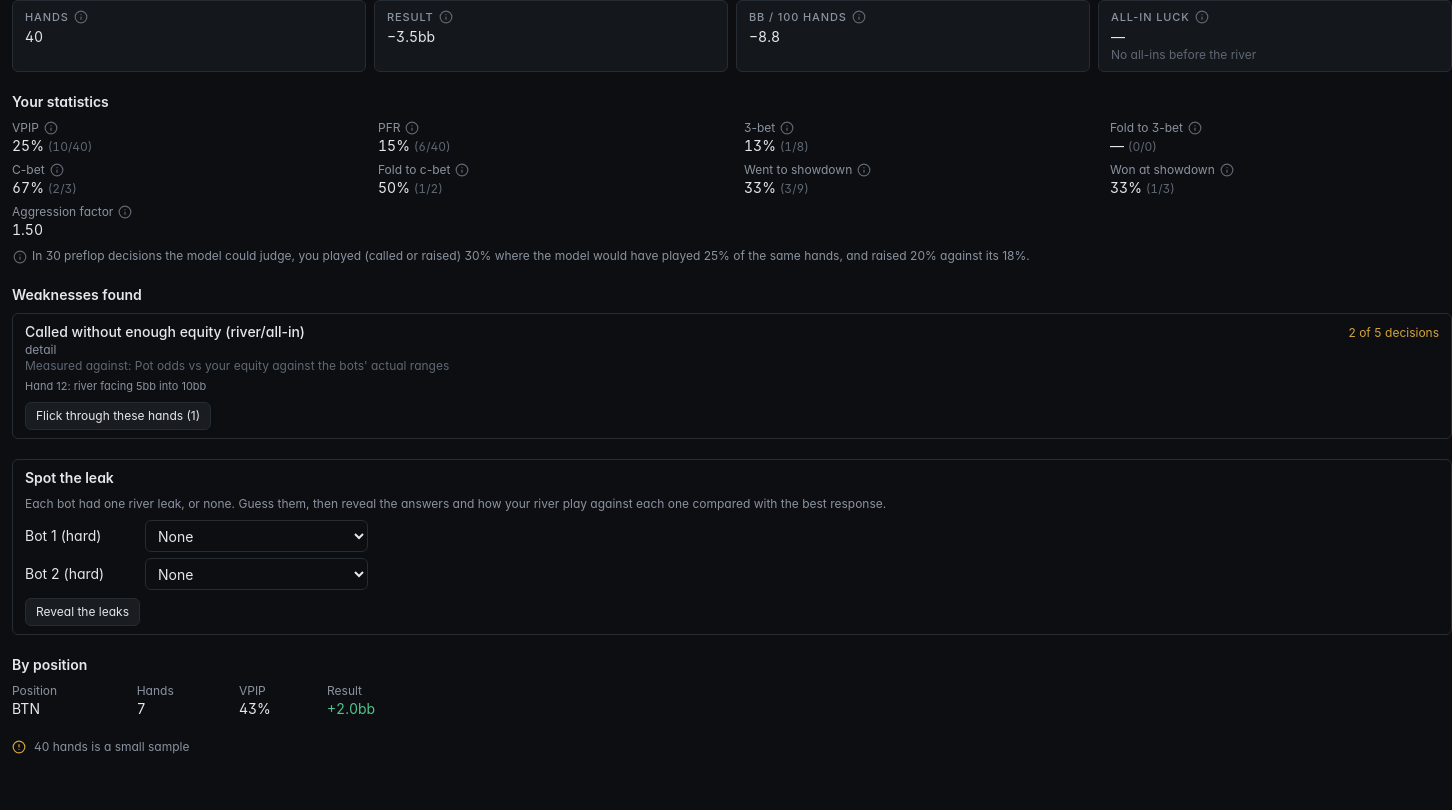
Scenario: session report › asks you to spot hidden leaks before revealing them
The image size is (1452, 810).
Select "Never bluffs the river" in the dropdown named "Leak of Bot 1 (hard)" at (256, 536), box [145, 520, 368, 552]
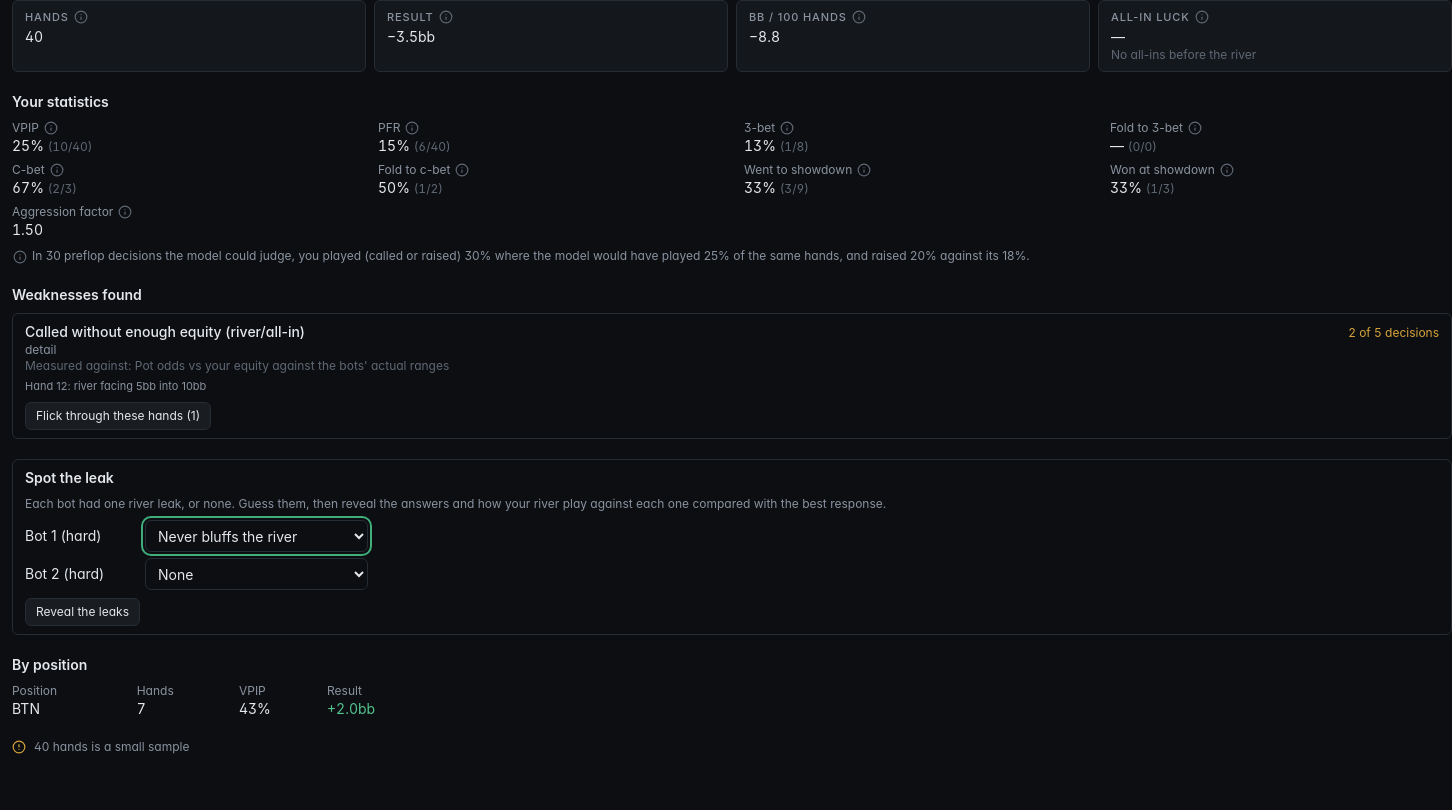
Select "Folds too much to river bets" in the dropdown named "Leak of Bot 2 (hard)" at (256, 574), box [145, 558, 368, 590]
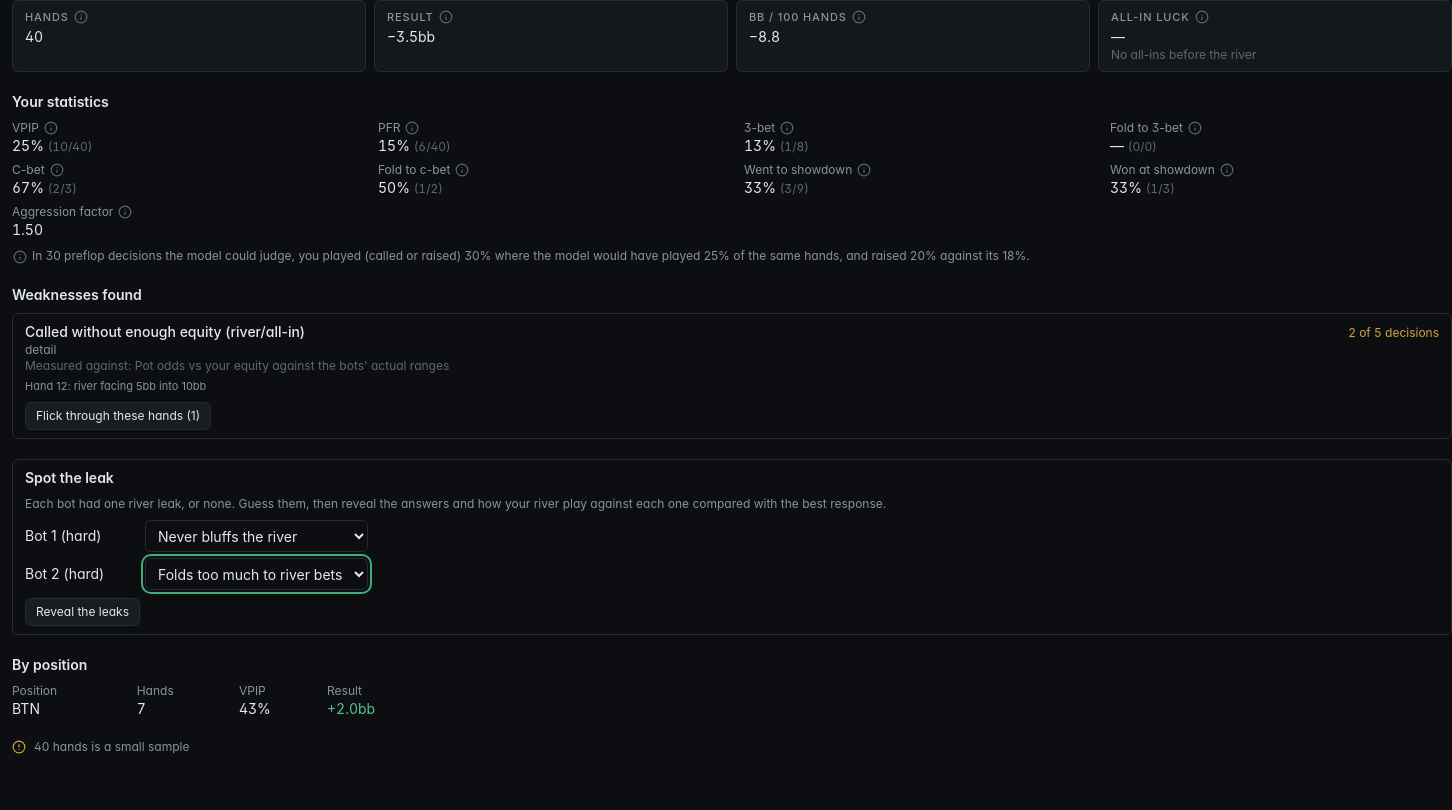
Click the button "Reveal the leaks" at (82, 612), box [25, 598, 140, 626]
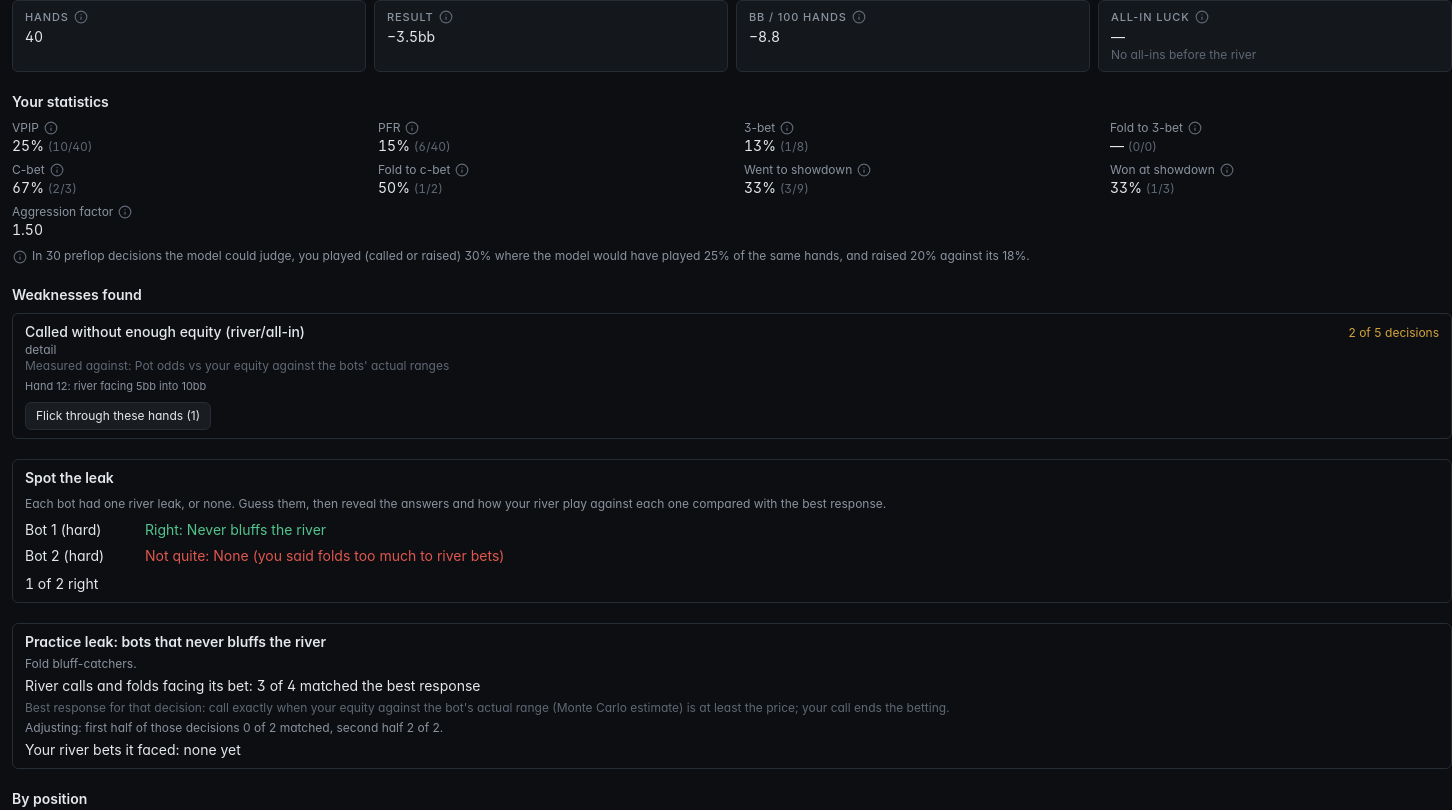
Result: the element labelled "Spot the leak" shows "1 of 2 right" at [12, 459, 1451, 603]
Result: the element named "Against: never bluffs the river" shows "first half of those decisions 0 of 2 matched, second half 2 of 2" at [12, 623, 1451, 769]
